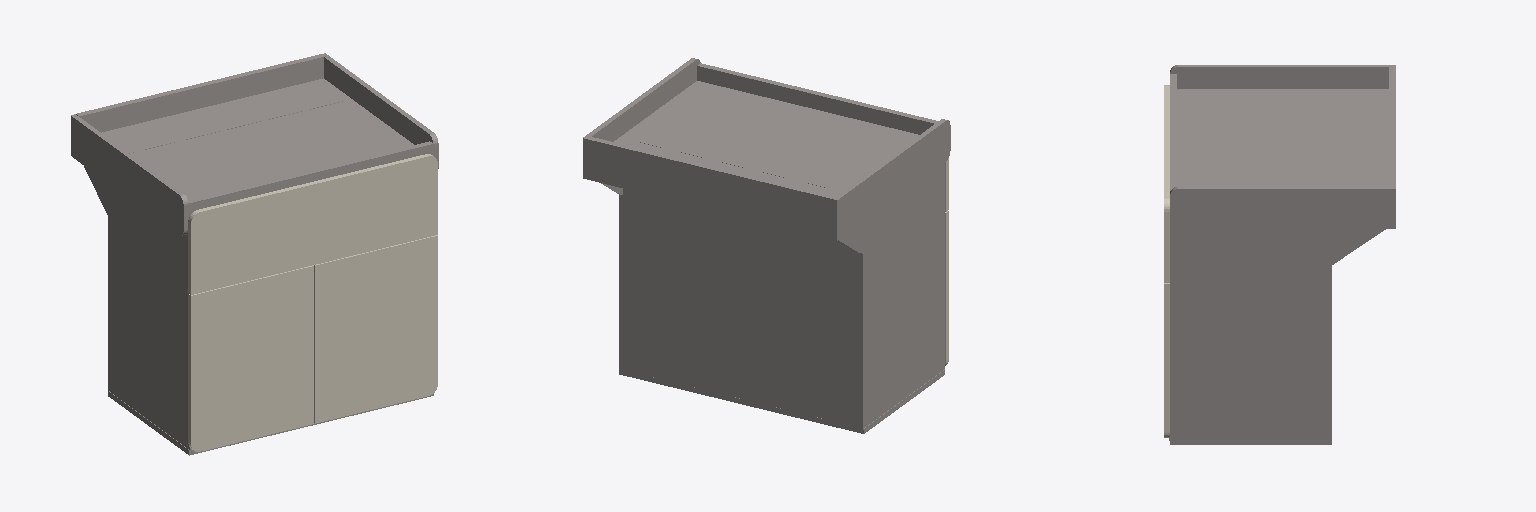
File: 2pir_komoda_z_przewijakiem.obj
The picture shows the model from 3 angles: view 1: azimuth 30°, elevation 25°; view 2: azimuth 150°, elevation 25°; view 3: azimuth 270°, elevation 25°; orthographic projection.
Parts seen in each view (by area): view 1: Rectangle060, Box002, Box004, Rectangle058, Rectangle057, Rectangle061, Rectangle059, Rectangle062, Box003; view 2: Plane069, Box002, Box004, Rectangle057, Rectangle061, Rectangle059, Rectangle062, Box003, Rectangle058, Box001, Rectangle060, Line897; view 3: Box001, Box004, Rectangle062, Rectangle058, Rectangle061, Rectangle060, Line897, Rectangle057, Box003, Rectangle059.
Part boxes in pixels (left/top/right/bottom): Rectangle060: left=188, top=154, right=437, bottom=451; Box002: left=108, top=184, right=191, bottom=450; Box004: left=130, top=99, right=413, bottom=199; Rectangle058: left=102, top=78, right=350, bottom=152; Rectangle057: left=76, top=54, right=325, bottom=132; Rectangle061: left=71, top=114, right=188, bottom=235; Rectangle059: left=188, top=141, right=434, bottom=216; Rectangle062: left=323, top=53, right=438, bottom=168; Box003: left=108, top=391, right=433, bottom=455; Plane069: left=625, top=189, right=856, bottom=426; Box002: left=857, top=162, right=944, bottom=429; Box004: left=620, top=81, right=918, bottom=191; Rectangle057: left=586, top=136, right=834, bottom=238; Rectangle061: left=832, top=119, right=950, bottom=240; Rectangle059: left=697, top=63, right=937, bottom=134; Rectangle062: left=583, top=58, right=700, bottom=178; Box003: left=619, top=369, right=944, bottom=433; Rectangle058: left=614, top=137, right=840, bottom=196; Box001: left=619, top=189, right=624, bottom=370; Rectangle060: left=945, top=158, right=948, bottom=365; Line897: left=601, top=183, right=863, bottom=253; Box001: left=1169, top=224, right=1331, bottom=440; Box004: left=1177, top=89, right=1331, bottom=186; Rectangle062: left=1170, top=186, right=1395, bottom=228; Rectangle058: left=1333, top=89, right=1388, bottom=185; Rectangle061: left=1170, top=65, right=1395, bottom=88; Rectangle060: left=1164, top=85, right=1169, bottom=437; Line897: left=1332, top=229, right=1385, bottom=264; Rectangle057: left=1389, top=67, right=1395, bottom=186; Box003: left=1170, top=440, right=1331, bottom=444; Rectangle059: left=1170, top=74, right=1176, bottom=190.
Size of the model in its own units: 99.95 by 96.96 by 78.95.